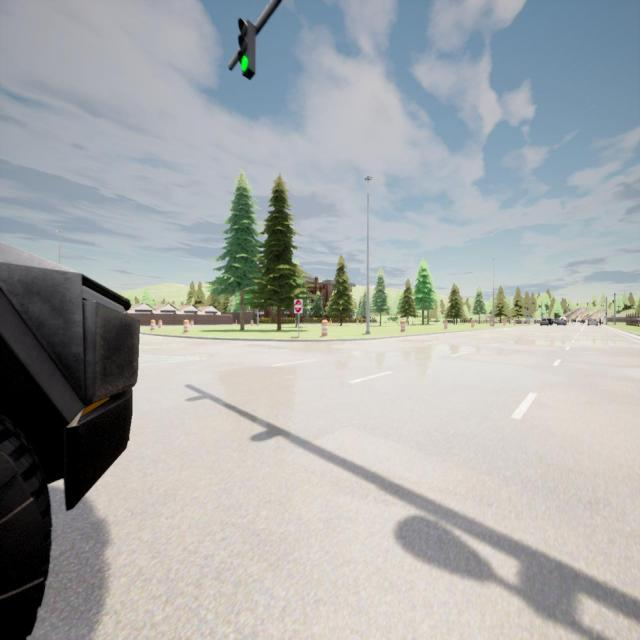Pedestrian: (599, 318, 601, 325)
Traffic_Signs: (294, 299, 303, 313)
Vehicle: (0, 242, 139, 637), (588, 317, 598, 326), (540, 318, 549, 326), (556, 320, 566, 326), (545, 318, 553, 325), (578, 318, 586, 324), (558, 316, 568, 320)
traffic_light: (237, 17, 256, 80), (613, 299, 614, 304), (587, 302, 588, 306), (577, 303, 578, 306), (568, 304, 569, 306), (606, 312, 606, 316)
